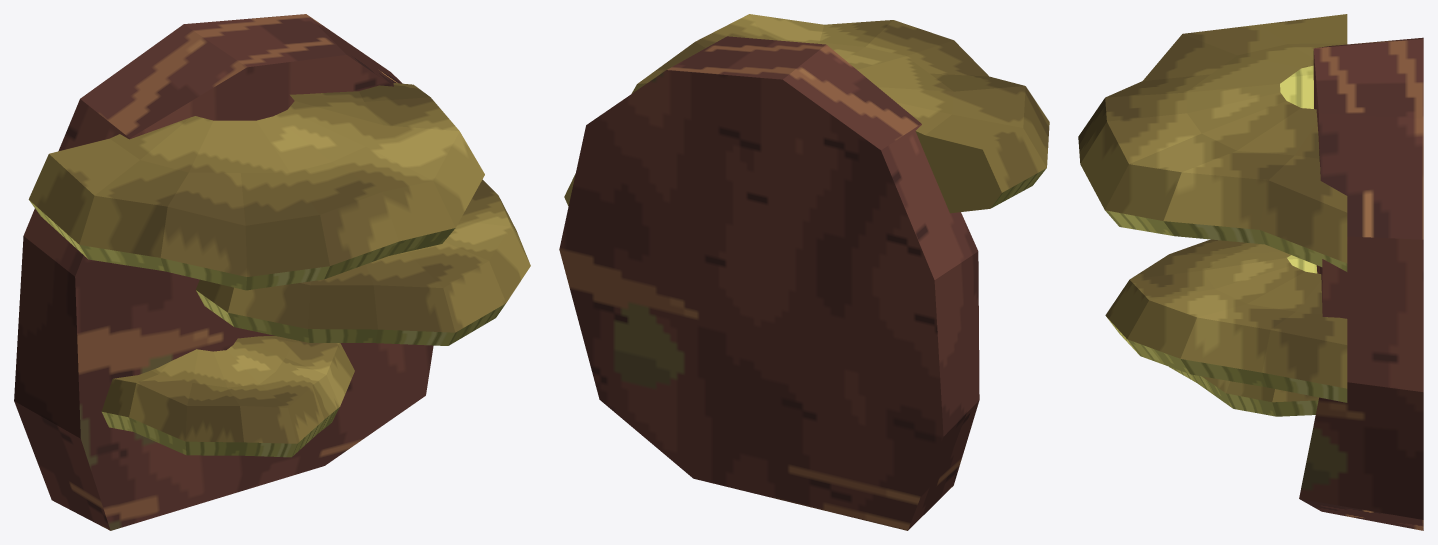
File: SM_AN39_WallFungi.fbx
3 renders of one model, left to right at view 1: azimuth 30°, elevation 25°; view 2: azimuth 150°, elevation 25°; view 3: azimuth 270°, elevation 25°, orthographic. The views are drawn at different scales.
Visible parts, largest first — view 1: AN39a_Props, AN39a_Earth; view 2: AN39a_Earth, AN39a_Props; view 3: AN39a_Props, AN39a_Earth.
Part boxes in pixels (left/top/right/bottom): AN39a_Props: left=28, top=83, right=530, bottom=457; AN39a_Earth: left=14, top=14, right=433, bottom=530; AN39a_Earth: left=559, top=36, right=979, bottom=530; AN39a_Props: left=564, top=14, right=1049, bottom=213; AN39a_Props: left=1078, top=14, right=1347, bottom=416; AN39a_Earth: left=1299, top=37, right=1423, bottom=530.
Size of the model in its own units: 0.98 by 0.9 by 0.632.
